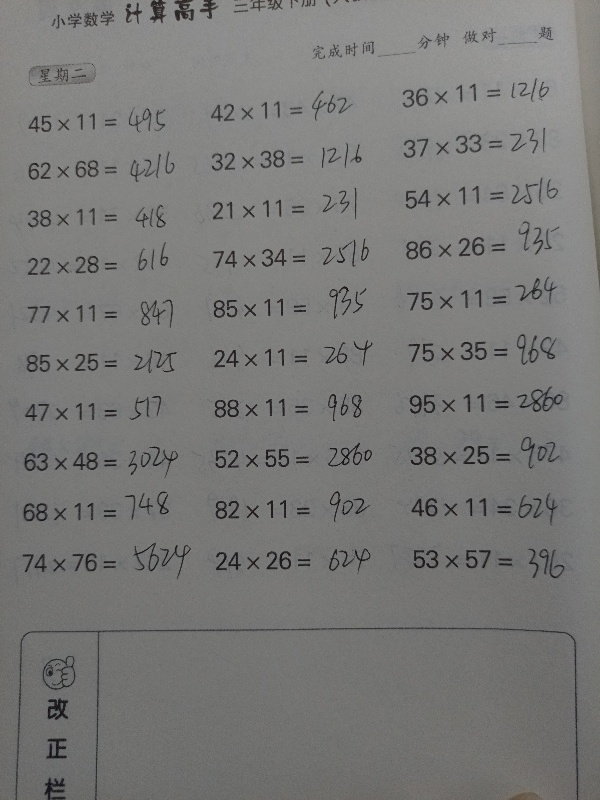equation: (403, 481, 583, 528), (15, 436, 195, 482), (401, 327, 581, 373), (203, 89, 383, 132), (405, 220, 576, 265), (14, 487, 194, 529), (401, 382, 581, 423), (396, 175, 576, 216), (16, 241, 198, 281), (394, 124, 574, 164), (20, 101, 200, 140), (209, 285, 384, 325), (207, 543, 387, 578), (398, 282, 578, 317), (203, 142, 383, 177), (393, 76, 573, 111), (13, 545, 193, 579), (405, 542, 585, 576), (207, 493, 387, 527), (206, 441, 386, 475), (401, 438, 581, 472), (205, 391, 385, 425), (203, 241, 383, 275), (16, 396, 196, 429), (17, 346, 197, 379), (205, 341, 385, 374), (19, 297, 199, 330), (19, 201, 199, 234), (203, 193, 383, 226), (19, 153, 199, 186)
